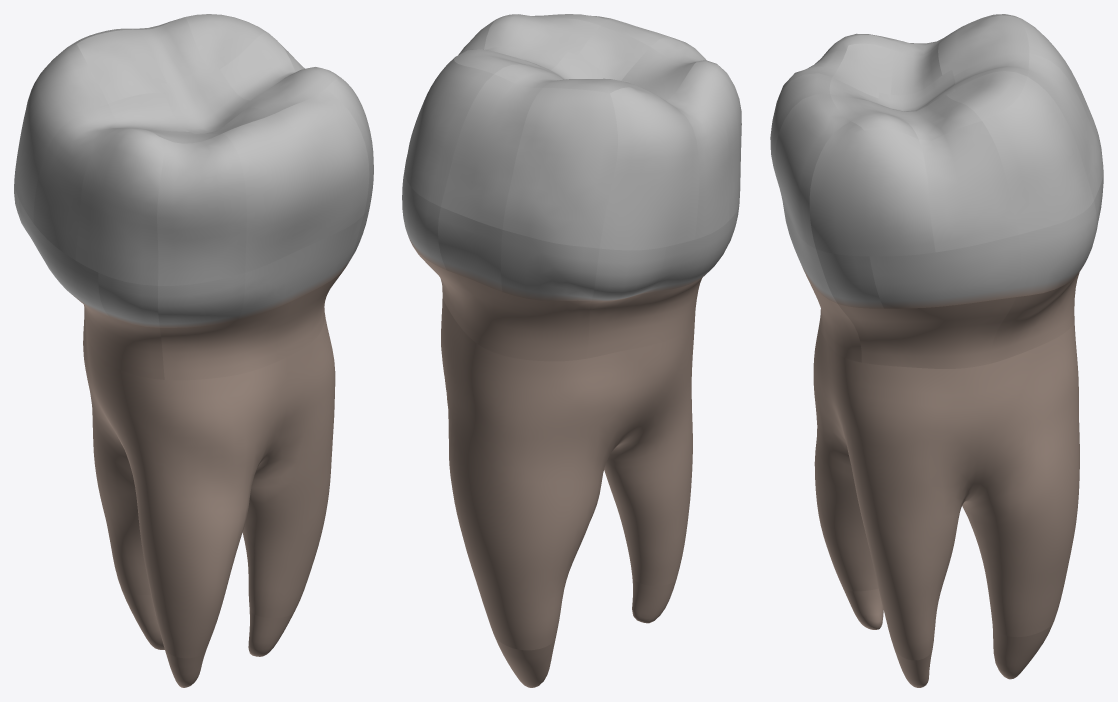
Rendered from teeth-hero.glb.
3 views of the same model, side by side, from view 1: azimuth 30°, elevation 25°; view 2: azimuth 150°, elevation 25°; view 3: azimuth 270°, elevation 25° (orthographic).
Visible parts, largest first — view 1: Root 2_FINAL37.001_0, Top_side 10, Top_side 11, Top_side 9, Middle 3, Top_side 8, Top_side 2, Top_side 1, Top2, Top1, Side 10, Middle 1 (+15 smaller); view 2: Root 2_FINAL37.001_0, Top_side 3, Top_side 2, Middle 2.001, Top_side 4, Top _side 5, Middle 1, Side 3, Top_side 1, Side 4, Top 6, Top_side 11 (+14 smaller); view 3: Root 2_FINAL37.001_0, Top_side 7, Top _side 5, Top_side 6, Middle 2, Side 6, Top_side 8, Side 5, Middle 2.001, Top2, Top_side 4, Side 7 (+18 smaller).
Boxes of the visible parts, x1=… form: Root 2_FINAL37.001_0: x1=83, y1=310, x2=335, y2=658; Top_side 10: x1=157, y1=134, x2=246, y2=285; Top_side 11: x1=75, y1=128, x2=165, y2=285; Top_side 9: x1=222, y1=114, x2=309, y2=272; Middle 3: x1=160, y1=269, x2=344, y2=380; Top_side 8: x1=275, y1=88, x2=369, y2=248; Top_side 2: x1=14, y1=44, x2=107, y2=222; Top_side 1: x1=33, y1=104, x2=129, y2=260; Top2: x1=76, y1=29, x2=166, y2=103; Top1: x1=159, y1=62, x2=255, y2=133; Side 10: x1=158, y1=273, x2=245, y2=327; Middle 1: x1=82, y1=303, x2=164, y2=379; Root 2_FINAL37.001_0: x1=441, y1=296, x2=695, y2=650; Top_side 3: x1=502, y1=88, x2=617, y2=248; Top_side 2: x1=599, y1=87, x2=699, y2=250; Middle 2.001: x1=413, y1=247, x2=591, y2=361; Top_side 4: x1=441, y1=74, x2=542, y2=229; Top _side 5: x1=405, y1=57, x2=493, y2=206; Middle 1: x1=586, y1=275, x2=704, y2=358; Side 3: x1=501, y1=230, x2=599, y2=301; Top_side 1: x1=666, y1=86, x2=728, y2=239; Side 4: x1=438, y1=207, x2=502, y2=291; Top 6: x1=484, y1=14, x2=599, y2=58; Top_side 11: x1=680, y1=60, x2=741, y2=220; Root 2_FINAL37.001_0: x1=813, y1=319, x2=1079, y2=660; Top_side 7: x1=809, y1=121, x2=935, y2=256; Top _side 5: x1=982, y1=77, x2=1093, y2=234; Top_side 6: x1=919, y1=121, x2=1018, y2=252; Middle 2: x1=838, y1=297, x2=1015, y2=368; Side 6: x1=869, y1=235, x2=1020, y2=308; Top_side 8: x1=775, y1=94, x2=850, y2=248; Side 5: x1=1016, y1=201, x2=1096, y2=296; Middle 2.001: x1=990, y1=272, x2=1079, y2=363; Top2: x1=938, y1=15, x2=1029, y2=75; Top_side 4: x1=1027, y1=53, x2=1103, y2=200; Side 7: x1=816, y1=249, x2=883, y2=308.
Size of the model in its own units: 506 by 1028 by 499.
